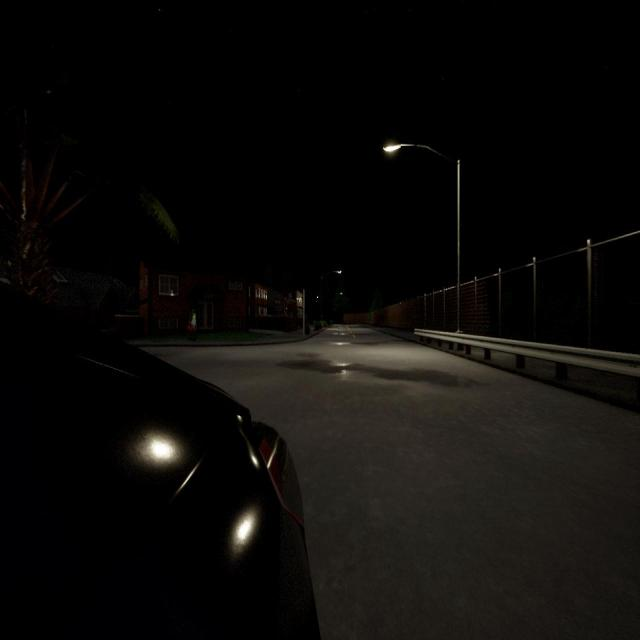Vehicle: (0, 358, 319, 638)
